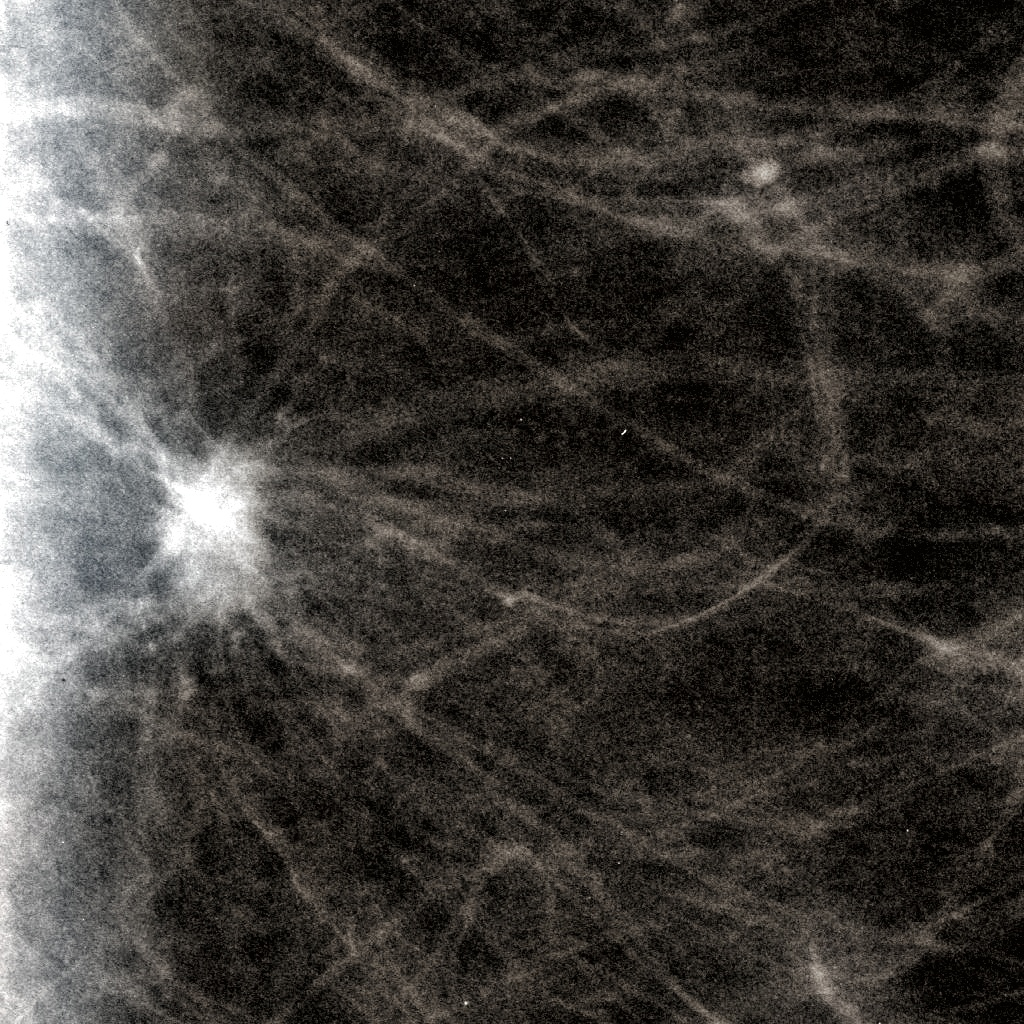tumor: (63, 384, 295, 640)
